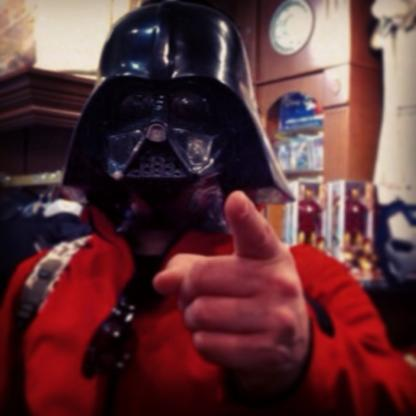Helmet: (51, 36, 287, 226)
